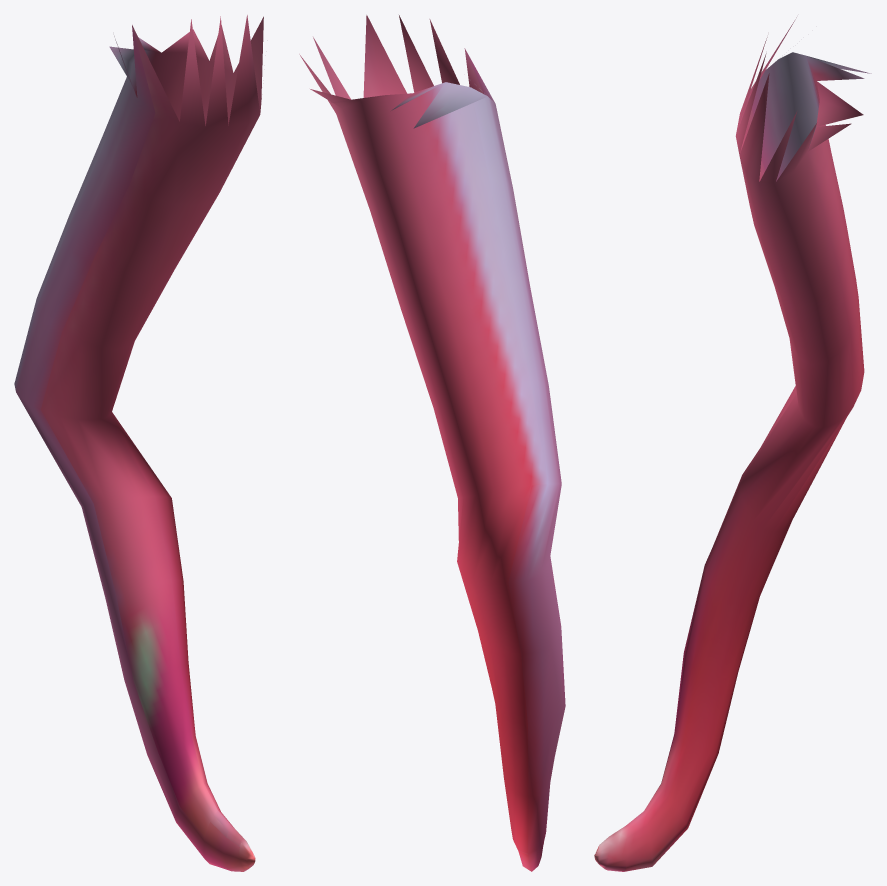
Rendered from Punta5.obj.
The picture shows the model from 3 angles, left to right: view 1: azimuth 30°, elevation 25°; view 2: azimuth 150°, elevation 25°; view 3: azimuth 270°, elevation 25°; orthographic projection. The views are drawn at different scales.
Visible parts, largest first — view 1: Punta5; view 2: Punta5; view 3: Punta5.
Boxes of the visible parts, x1,y1,x2,y2 form: Punta5: (14,15,263,871); Punta5: (299,15,565,871); Punta5: (594,17,871,871).
Bounding box in the file's own units: 4.75 × 15.03 × 4.44.
